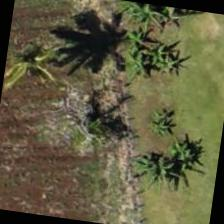Kelapa_Sawit: (0, 10, 80, 108)
